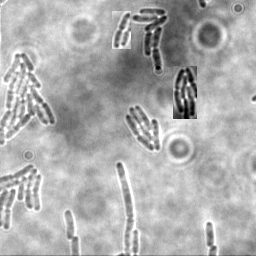Dividing: (114, 161, 133, 255), (112, 11, 131, 49), (204, 221, 215, 248)
Microcolony: (1, 51, 56, 147), (1, 162, 44, 231), (130, 8, 167, 72), (124, 106, 160, 153), (173, 66, 197, 119), (63, 208, 74, 240)
